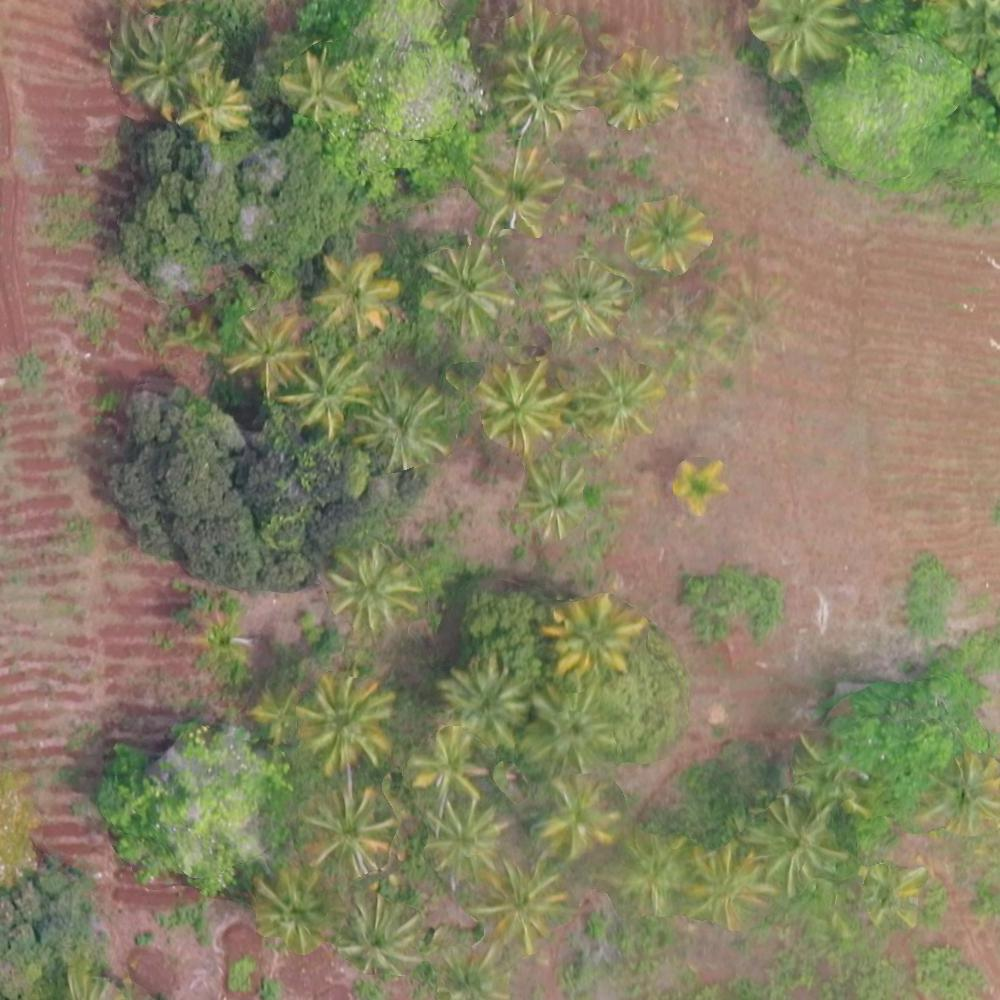Palm: (752, 794, 846, 891), (116, 19, 216, 108), (523, 681, 612, 778), (304, 674, 395, 766), (303, 790, 400, 874), (748, 1, 858, 73), (324, 547, 424, 626), (496, 49, 591, 131), (478, 863, 566, 950), (356, 382, 445, 465), (422, 244, 512, 326), (472, 364, 557, 448), (683, 842, 769, 925), (473, 148, 553, 235), (920, 752, 1000, 839), (539, 260, 624, 341), (595, 50, 681, 130), (340, 894, 423, 976), (256, 865, 335, 949), (553, 598, 637, 676), (574, 361, 654, 442), (424, 807, 506, 886), (438, 666, 520, 744), (537, 780, 621, 856), (608, 831, 685, 910), (315, 256, 394, 330), (280, 52, 362, 121), (231, 312, 302, 390), (290, 356, 370, 425), (412, 732, 487, 805), (518, 454, 589, 530), (633, 200, 705, 269), (178, 69, 248, 138), (670, 461, 730, 514)
